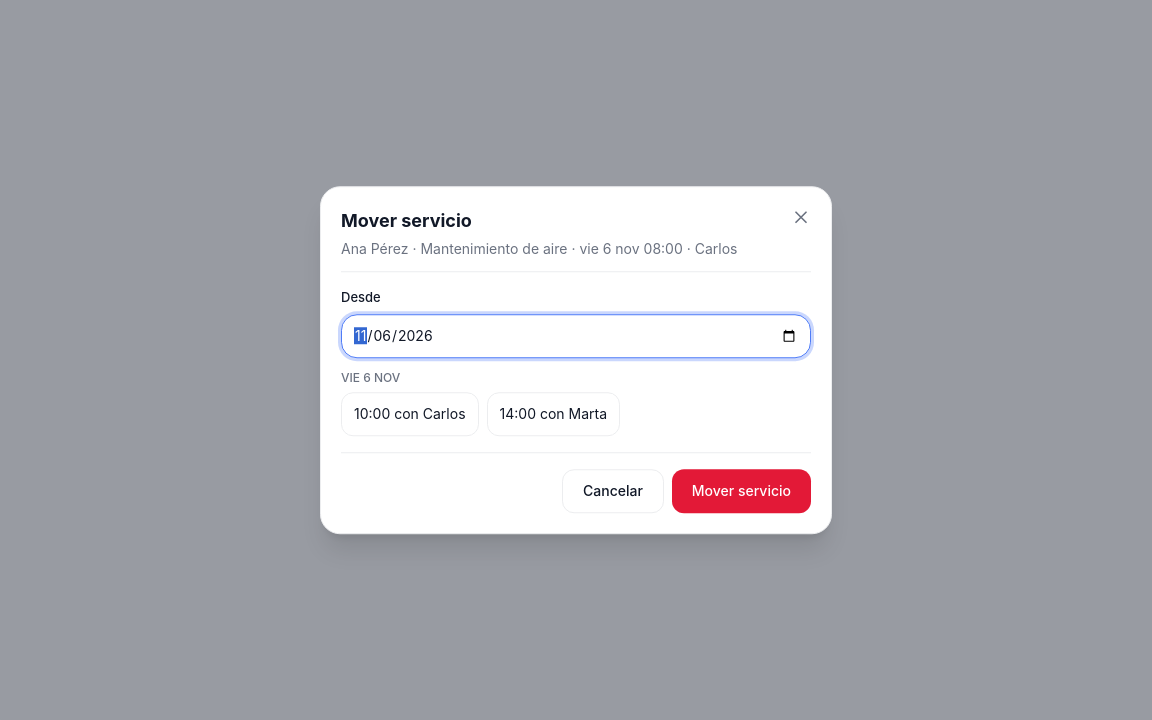
Test: MoveAppointmentDialog › indica que se mantiene el técnico cuando el cupo lo atiende el actual
Click the radio button labelled "10:00 con Carlos" at x=410, y=414, box [341,392,478,436]
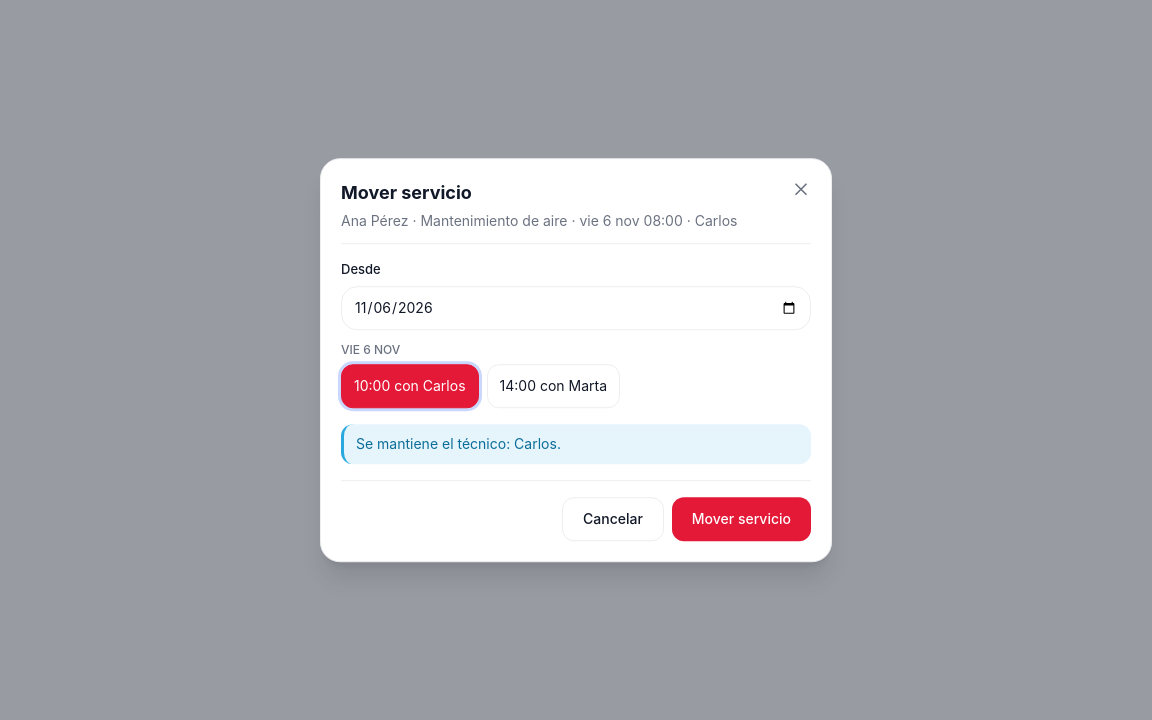
Expected: the message reads "Se mantiene el técnico: Carlos.", [341,424,811,464]
